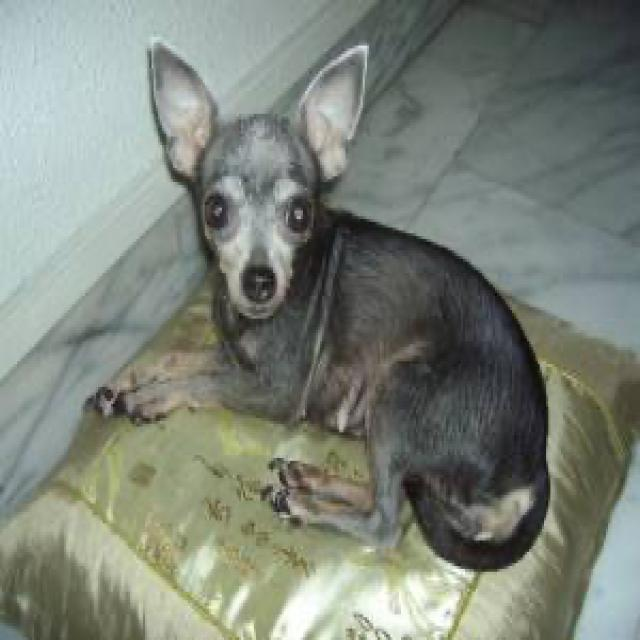dog: (145, 34, 365, 316)
